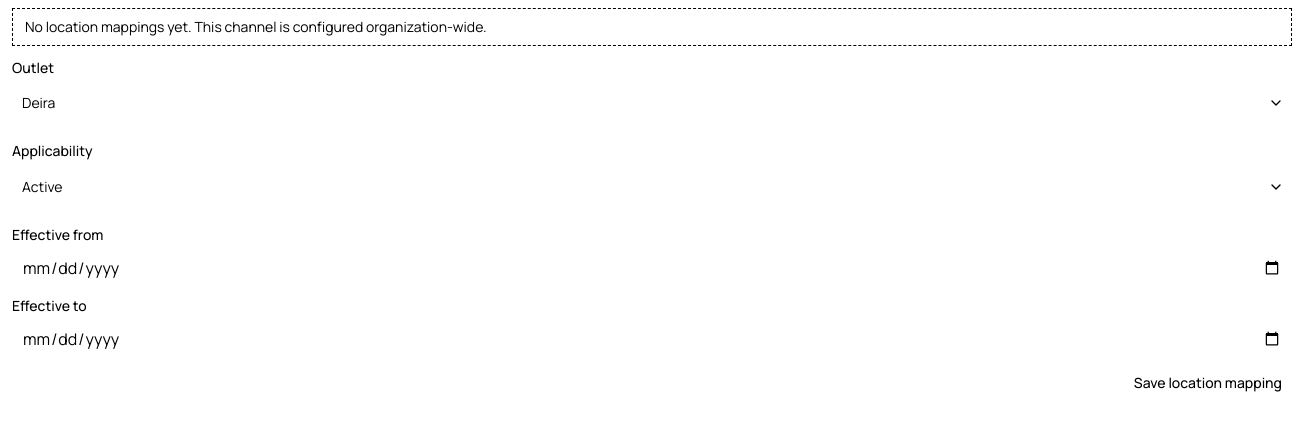
Test case: ChannelLocationForm (D07) › blocks a reversed date range without a request and focuses Effective to
This screenshot has width=1304, height=437.
Type "2026-03-01" into the date field labelled "Effective from". click: [652, 268]
box: [12,252,1292,284]
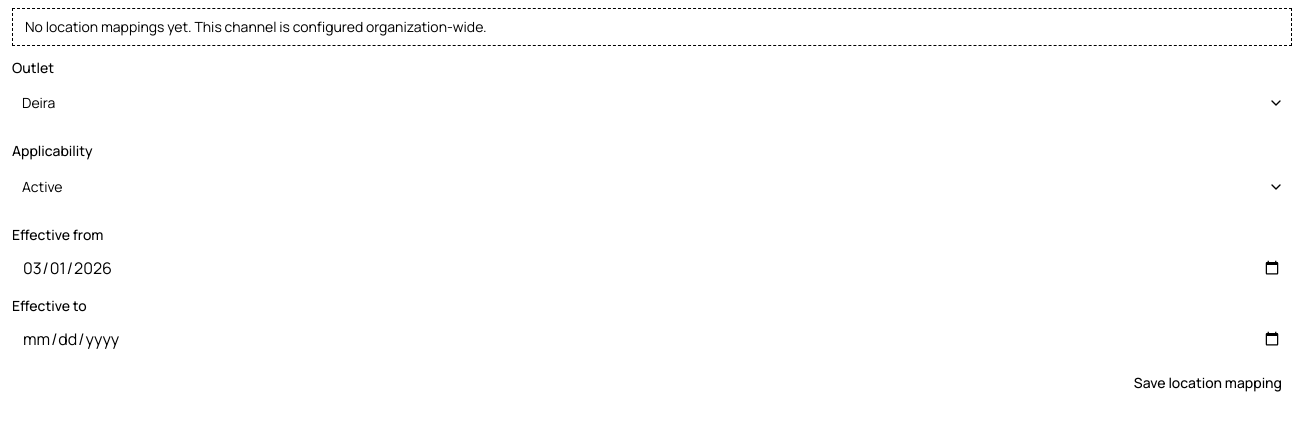
Type "2026-02-01" into the date field labelled "Effective to". click: [652, 339]
box: [12,323,1292,355]
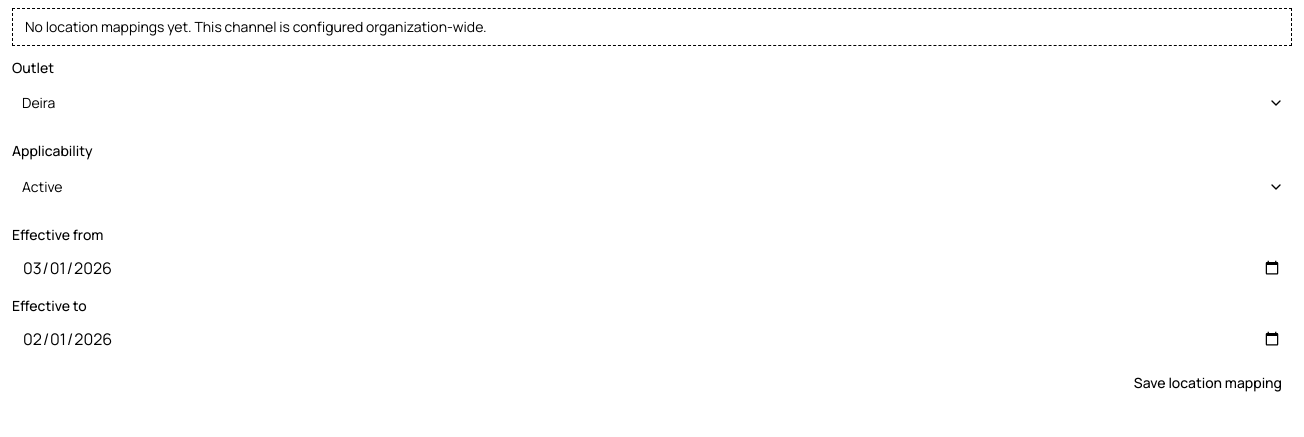
Click the button "Save location mapping". click: [1208, 383]
box: [1124,367,1292,399]
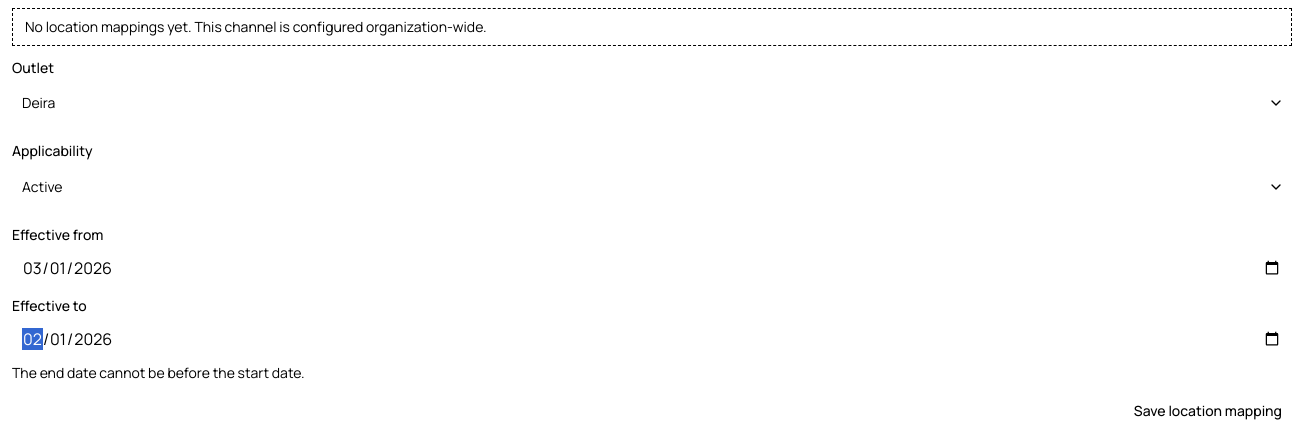
Result: the text "The end date cannot be before the start date." is shown at [12,363,305,382]
